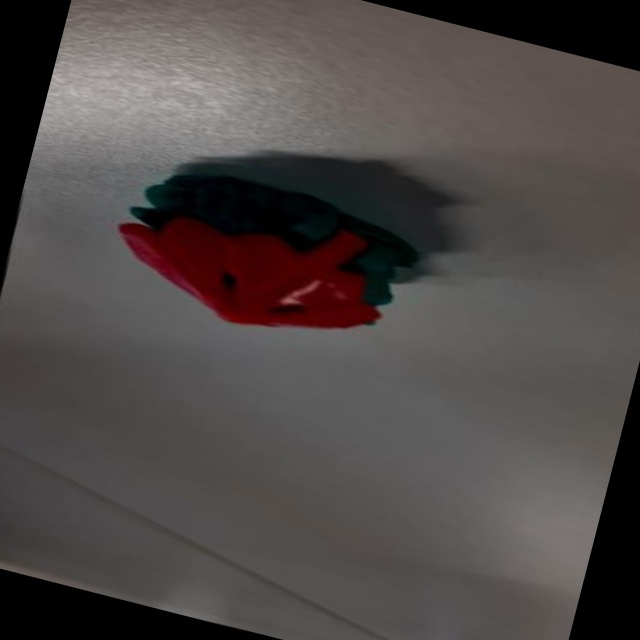House: (97, 150, 438, 369)
